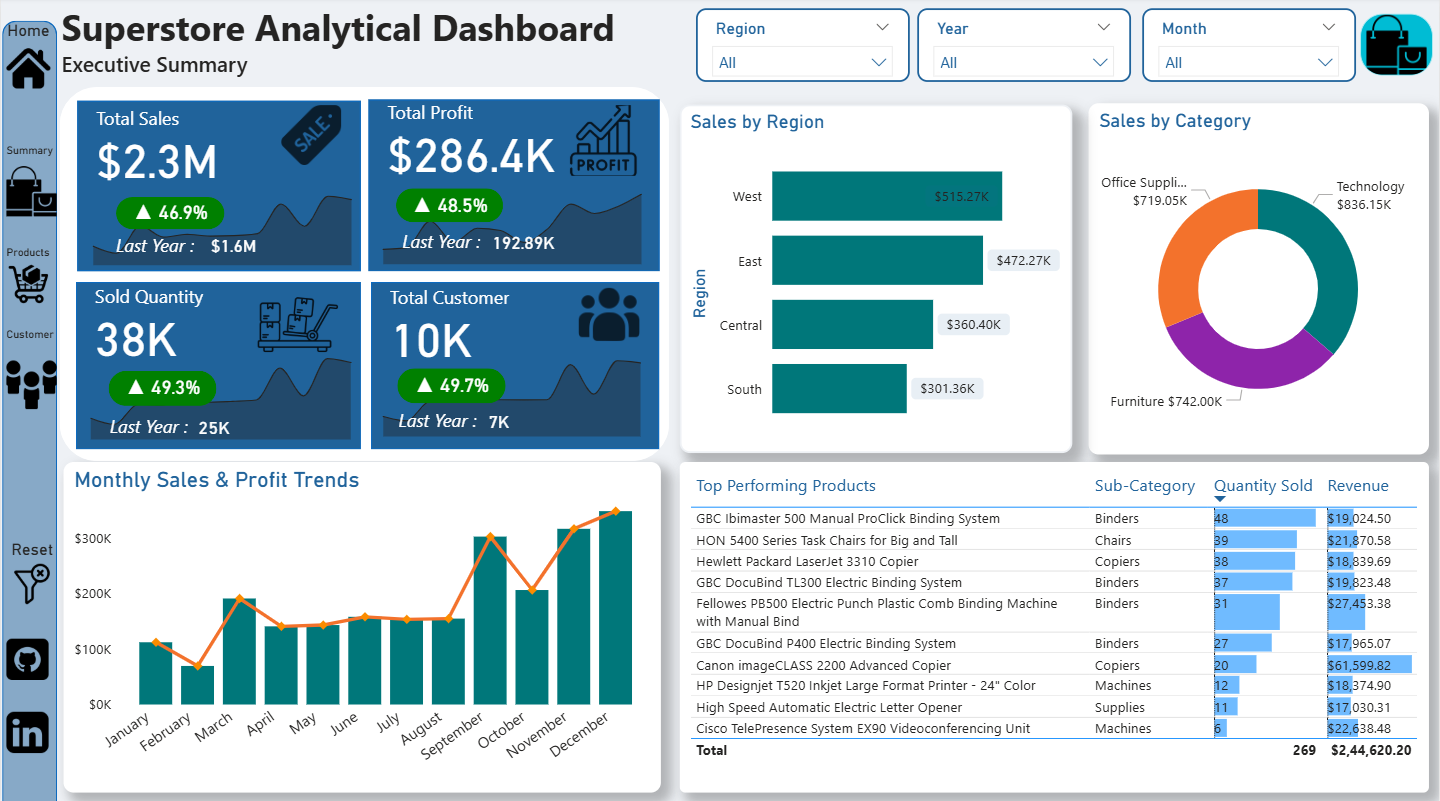

The page's visual inventory and layout, read from the dashboard file:
{"tool":"powerbi","page":{"name":"Execution Summary","canvas":[1280,720],"ordinal":1},"visuals":[{"type":"shape","box":[1.2,15.8,48.8,696.5],"z":0,"group":"g11"},{"type":"group","id":"g1","title":"Group 7","box":[327.8,91.4,259.3,153.1],"z":0,"group":"g18"},{"type":"shape","title":"YoY PG","box":[352.7,170.6,95.5,30.4],"z":0,"group":"g9"},{"type":"shape","title":"YoY PG","box":[102.3,178.1,96.6,28.8],"z":0,"group":"g3"},{"type":"shape","box":[358.3,193.6,71.8,45.9],"z":0,"group":"g10"},{"type":"shape","box":[102.5,199.7,75.5,40],"z":0,"group":"g7"},{"type":"areaChart","fields":{"Category":["Date Table.Month"],"Y":["CountNonNull(Orders.Customer ID)"]},"box":[327.8,309,255.8,89.3],"z":0,"group":"g4"},{"type":"shape","title":"YoY PG","box":[353.7,331.1,96.6,31.3],"z":0,"group":"g2"},{"type":"shape","title":"YoY PG","box":[96.9,332.9,96.4,31.5],"z":0,"group":"g5"},{"type":"shape","box":[354.8,351.7,71.7,49.5],"z":0,"group":"g6"},{"type":"shape","box":[96.9,359.9,70.1,43.5],"z":0,"group":"g8"},{"type":"lineClusteredColumnComboChart","title":"Monthly Sales Trends","fields":{"Category":["Orders.Month Name(Delivery)"],"Y":["Sum(Orders.Sales)"],"Y2":["Sum(Orders.Sales)"]},"box":[55.5,413.8,532,294.4],"z":0},{"type":"shape","box":[52.4,80.6,542.7,333.2],"z":1000},{"type":"cardVisual","fields":{"Data":["_Measure Table.Total Profit"]},"box":[327.8,91.4,259.3,73.9],"z":1000,"group":"g18"},{"type":"areaChart","fields":{"Y":["Sum(Orders.Sales)"],"Category":["Date Table.Month"]},"box":[68.9,154.6,256.6,90.2],"z":1000,"group":"g15"},{"type":"cardVisual","title":"YoY%","fields":{"Data":["_Measure Table.YoY % Profit"]},"box":[346.9,164.8,107.1,36.1],"z":1000,"group":"g9"},{"type":"cardVisual","title":"YoY%","fields":{"Data":["_Measure Table.YoY % Sales"]},"box":[96.4,172.6,108.3,34.3],"z":1000,"group":"g3"},{"type":"cardVisual","title":"YoY%","fields":{"Data":["_Measure Table.LY Profit"]},"box":[430.1,196.8,95.7,39.6],"z":1000,"group":"g10"},{"type":"cardVisual","title":"YoY%","fields":{"Data":["_Measure Table.LY Sales"]},"box":[178,202.5,100.6,34.5],"z":1000,"group":"g7"},{"type":"areaChart","fields":{"Y":["Sum(Orders.Quantity)"],"Category":["Date Table.Month"]},"box":[67.2,304.9,258.4,95.1],"z":1000,"group":"g16"},{"type":"group","id":"g2","title":"YoY % Sales","box":[347.8,325.1,108.3,37.3],"z":1000,"group":"g4"},{"type":"cardVisual","title":"YoY%","fields":{"Data":["_Measure Table.YoY % Customer"]},"box":[347.8,325.1,108.3,37.3],"z":1000,"group":"g2"},{"type":"cardVisual","title":"YoY%","fields":{"Data":["_Measure Table.YoY % Quantity"]},"box":[91.1,326.9,108,37.5],"z":1000,"group":"g5"},{"type":"cardVisual","title":"YoY%","fields":{"Data":["_Measure Table.LY Customer"]},"box":[426.5,355.1,95.6,42.6],"z":1000,"group":"g6"},{"type":"cardVisual","title":"YoY%","fields":{"Data":["_Measure Table.LY Quantity"]},"box":[167,362.9,93.4,37.5],"z":1000,"group":"g8"},{"type":"image","title":"Reset","box":[0,490.3,56.5,64.4],"z":1000,"group":"g11"},{"type":"shape","box":[327.8,91.4,259.3,153.1],"z":1500,"group":"g1"},{"type":"cardVisual","fields":{"Data":["_Measure Table.Total Customer"]},"box":[330.5,253.9,256.6,76.6],"z":1500,"group":"g4"},{"type":"image","title":"Home","box":[0,16,49,67.9],"z":2000,"group":"g11"},{"type":"areaChart","fields":{"Category":["Date Table.Month"],"Y":["Sum(Orders.Profit)"]},"box":[327.8,138.4,256.6,106.1],"z":2000,"group":"g1"},{"type":"group","id":"g3","title":"YoY % Sales","box":[96.4,172.6,108.8,34.2],"z":2000,"group":"g15"},{"type":"group","id":"g4","title":"Group 1","box":[327.8,253.9,259.3,147.3],"z":2000,"group":"g14"},{"type":"group","id":"g5","title":"YoY % Sales","box":[91.1,326.9,108,37.5],"z":2000,"group":"g16"},{"type":"group","id":"g6","title":"Last Year Sale","box":[354.8,351.7,167.3,49.5],"z":2000,"group":"g4"},{"type":"donutChart","title":"Sales by Category","fields":{"Category":["Orders.Category"],"Y":["Sum(Orders.Sales)"]},"box":[968.8,94.1,302.8,312.5],"z":3000},{"type":"image","title":"Summary","box":[0,126.2,54.5,72.4],"z":3000,"group":"g11"},{"type":"group","id":"g7","title":"Last Year Sale","box":[102.5,199.7,176,39.7],"z":3000,"group":"g15"},{"type":"group","id":"g8","title":"Last Year Sale","box":[96.9,359.9,163.5,43.5],"z":3000,"group":"g16"},{"type":"group","id":"g9","title":"YoY % Sales","box":[346.9,164.8,107.5,36.3],"z":4000,"group":"g1"},{"type":"image","title":"Products","box":[0,216.4,49,57.9],"z":4000,"group":"g11"},{"type":"textbox","box":[49.5,0,553.8,80.8],"z":5000},{"type":"image","title":"Customer","box":[0,289.9,54.5,90.2],"z":5000,"group":"g11"},{"type":"group","id":"g10","title":"Last Year Sale","box":[358.3,193.6,167.9,45.7],"z":6000,"group":"g1"},{"type":"image","box":[0,556.9,47.4,57.6],"z":6000,"group":"g11"},{"type":"slicer","fields":{"Values":["Orders.Region"]},"box":[618.9,10,190,65.7],"z":7000},{"type":"slicer","fields":{"Values":["Date Table.Year"]},"box":[816,10,190,65.7],"z":8000},{"type":"clusteredBarChart","title":"Sales by Region","fields":{"Category":["Orders.Region"],"Y":["Sum(Orders.Sales)"]},"box":[604.4,95.3,349.9,310.1],"z":9000},{"type":"slicer","fields":{"Values":["Orders.Month Name(Delivery)"]},"box":[1016.3,10,190,65.7],"z":10000},{"type":"tableEx","title":"Top Performing Products","fields":{"Values":["Orders.Product Name","Orders.Sub-Category","Sum(Orders.Quantity)","Sum(Orders.Sales)"]},"box":[604.4,413.8,667.2,294.4],"z":11000},{"type":"image","title":"Summary","box":[1205.2,9.7,74.8,65.1],"z":12000},{"type":"group","id":"g11","title":"Group 3","box":[0,15.8,56.5,696.5],"z":13000},{"type":"shape","box":[67.6,93.1,252.6,151.8],"z":14000,"group":"g17"},{"type":"shape","box":[67.2,253.9,253.9,149.1],"z":14000,"group":"g13"},{"type":"group","id":"g12","title":"Group 2","box":[327.8,253.9,259.3,149.1],"z":14000},{"type":"shape","box":[330.5,253.9,256.6,149.1],"z":14000,"group":"g12"},{"type":"group","id":"g13","title":"Group 4","box":[67.2,253.9,257.9,149.1],"z":15000},{"type":"group","id":"g14","title":"Customer","box":[327.8,253.9,259.3,147.3],"z":15000,"group":"g12"},{"type":"cardVisual","fields":{"Data":["_Measure Table.Total Sales"]},"box":[67.6,91.7,252.6,83.4],"z":15001,"group":"g17"},{"type":"cardVisual","fields":{"Data":["_Measure Table.Sold Quantity"]},"box":[67.2,253.9,252.6,76.6],"z":15001,"group":"g13"},{"type":"group","id":"g15","title":"Group 5","box":[68.9,154.6,256.6,90.2],"z":15501,"group":"g17"},{"type":"group","id":"g16","title":"Quantity","box":[67.2,304.9,257.9,98.1],"z":15501,"group":"g13"},{"type":"group","id":"g17","title":"Group 6","box":[67.6,91.7,257,153.2],"z":16000},{"type":"group","id":"g18","title":"Group 8","box":[327.8,91.4,259.3,153.1],"z":17003},{"type":"image","box":[0,614.3,47.4,72.3],"z":20000}]}

Visuals, with their boxes on the page's 1280x720 design canvas (x1, y1, x2, y2). These are canvas units, not pixel positions in the 1440x801 screenshot, which may show the page scaled, cropped or inside an application window:
shape: 1:16:50:712
"Group 7" group: 328:91:587:244
"YoY PG" shape: 353:171:448:201
"YoY PG" shape: 102:178:199:207
shape: 358:194:430:240
shape: 102:200:178:240
areaChart - Date Table.Month x CountNonNull(Orders.Customer ID): 328:309:584:398
"YoY PG" shape: 354:331:450:362
"YoY PG" shape: 97:333:193:364
shape: 355:352:426:401
shape: 97:360:167:403
"Monthly Sales Trends" lineClusteredColumnComboChart: 56:414:588:708
shape: 52:81:595:414
cardVisual - _Measure Table.Total Profit: 328:91:587:165
areaChart - Sum(Orders.Sales) x Date Table.Month: 69:155:326:245
"YoY%" cardVisual: 347:165:454:201
"YoY%" cardVisual: 96:173:205:207
"YoY%" cardVisual: 430:197:526:236
"YoY%" cardVisual: 178:202:279:237
areaChart - Sum(Orders.Quantity) x Date Table.Month: 67:305:326:400
"YoY % Sales" group: 348:325:456:362
"YoY%" cardVisual: 348:325:456:362
"YoY%" cardVisual: 91:327:199:364
"YoY%" cardVisual: 426:355:522:398
"YoY%" cardVisual: 167:363:260:400
"Reset" image: 0:490:56:555
shape: 328:91:587:244
cardVisual - _Measure Table.Total Customer: 330:254:587:330
"Home" image: 0:16:49:84
areaChart - Date Table.Month x Sum(Orders.Profit): 328:138:584:244
"YoY % Sales" group: 96:173:205:207
"Group 1" group: 328:254:587:401
"YoY % Sales" group: 91:327:199:364
"Last Year Sale" group: 355:352:522:401
"Sales by Category" donutChart: 969:94:1272:407
"Summary" image: 0:126:54:199
"Last Year Sale" group: 102:200:278:239
"Last Year Sale" group: 97:360:260:403
"YoY % Sales" group: 347:165:454:201
"Products" image: 0:216:49:274
textbox: 50:0:603:81
"Customer" image: 0:290:54:380
"Last Year Sale" group: 358:194:526:239
image: 0:557:47:614
slicer - Orders.Region: 619:10:809:76
slicer - Date Table.Year: 816:10:1006:76
"Sales by Region" clusteredBarChart: 604:95:954:405
slicer - Orders.Month Name(Delivery): 1016:10:1206:76
"Top Performing Products" tableEx: 604:414:1272:708
"Summary" image: 1205:10:1280:75
"Group 3" group: 0:16:56:712
shape: 68:93:320:245
shape: 67:254:321:403
"Group 2" group: 328:254:587:403
shape: 330:254:587:403
"Group 4" group: 67:254:325:403
"Customer" group: 328:254:587:401
cardVisual - _Measure Table.Total Sales: 68:92:320:175
cardVisual - _Measure Table.Sold Quantity: 67:254:320:330
"Group 5" group: 69:155:326:245
"Quantity" group: 67:305:325:403
"Group 6" group: 68:92:325:245
"Group 8" group: 328:91:587:244
image: 0:614:47:687
